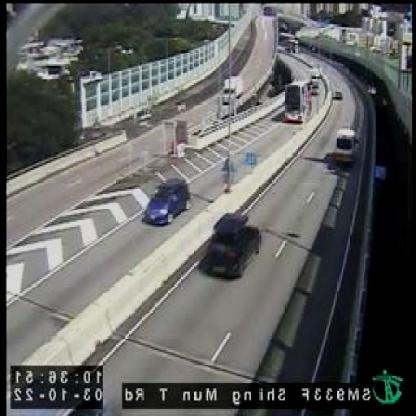Bus: (284, 80, 314, 121)
Car: (203, 210, 264, 272), (143, 177, 190, 220), (334, 126, 359, 164)
